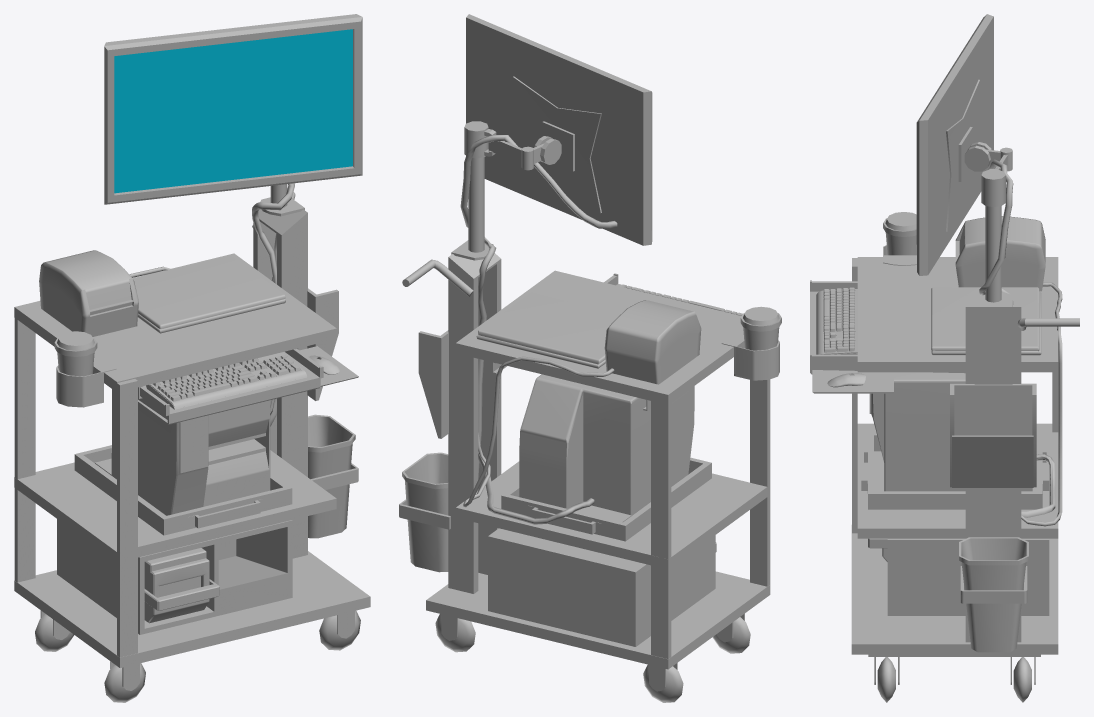
Rendered from WarehouseTerminal.fbx.
3 views of the same model, side by side, from view 1: azimuth 30°, elevation 25°; view 2: azimuth 150°, elevation 25°; view 3: azimuth 270°, elevation 25° (orthographic). The views are drawn at different scales.
Visible parts, largest first — view 1: pPlane9; view 2: pPlane9; view 3: pPlane9.
Boxes of the visible parts, left/top/right/bottom form: pPlane9: left=14, top=14, right=370, bottom=702; pPlane9: left=399, top=14, right=781, bottom=702; pPlane9: left=810, top=14, right=1079, bottom=702.
Size of the model in its own units: 110 by 194 by 79.39.
